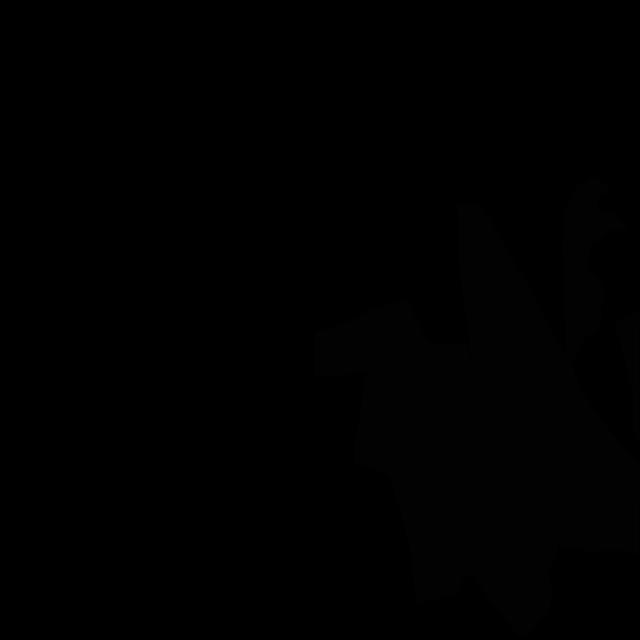cardboard: (314, 300, 559, 640), (457, 203, 640, 554), (563, 176, 627, 365), (614, 310, 640, 378), (628, 326, 640, 443)
